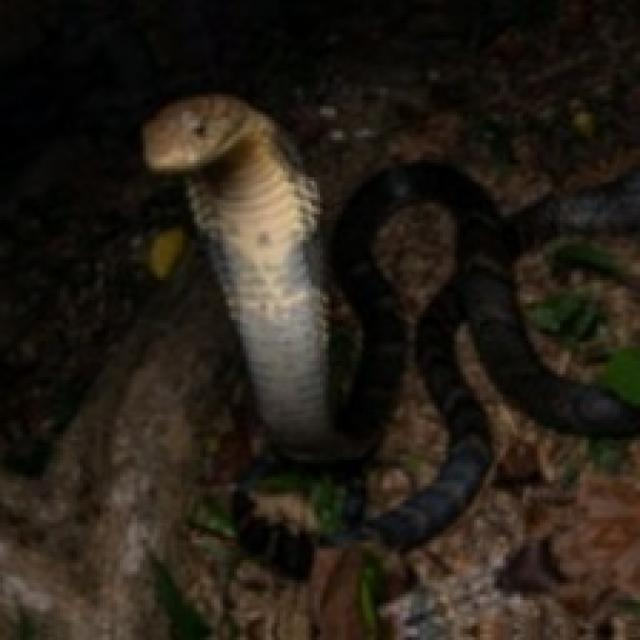king cobra: (143, 94, 637, 560)
